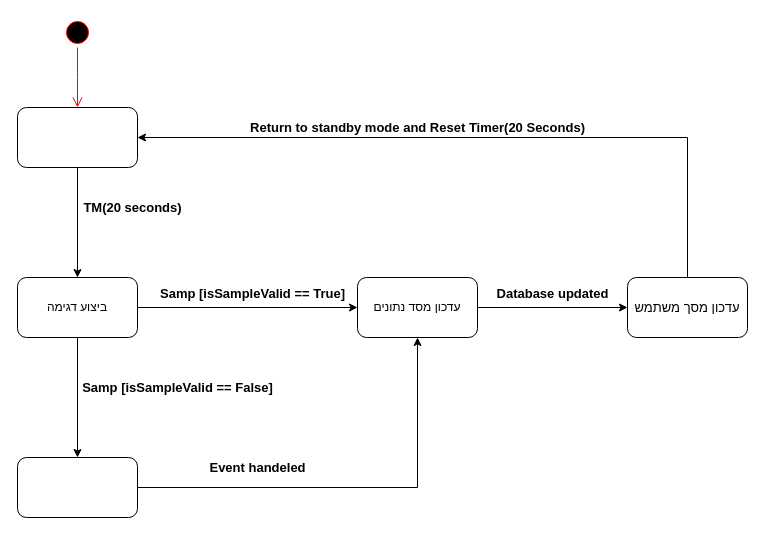
The diagram is 765 pixels wide and 535 high, and some of its shapes have lost their labels. The shapes that lost their labels are listed below. From the top down, each one's box as (x1, y1, x2, y2) in pixels, then its label:
(16, 106, 138, 168): המתנה
(16, 456, 138, 518): אירוע חריג
